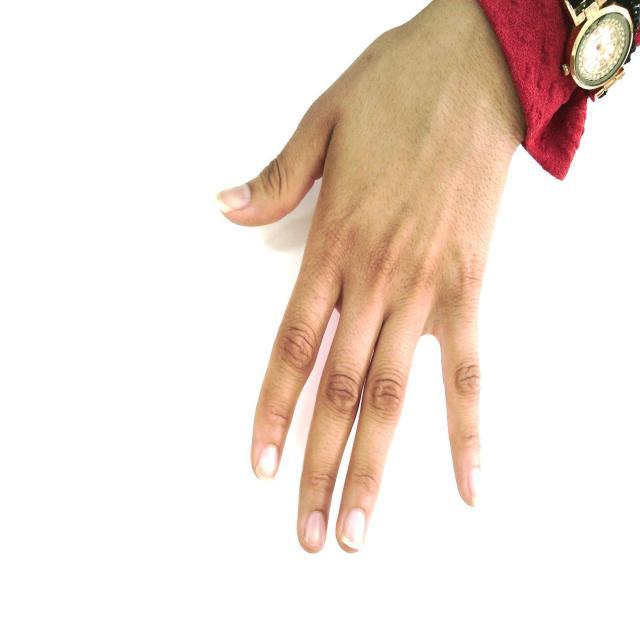Fingernail: (216, 184, 251, 213), (342, 509, 366, 550), (256, 445, 279, 481), (305, 511, 325, 547), (469, 468, 481, 504)
